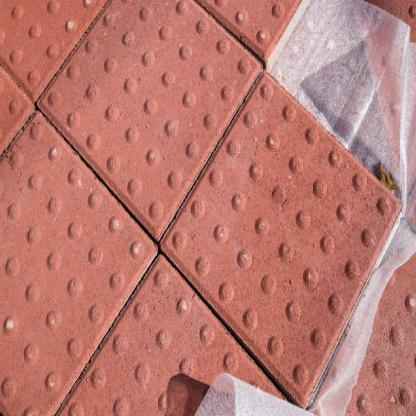podotacti: (0, 1, 399, 413)
